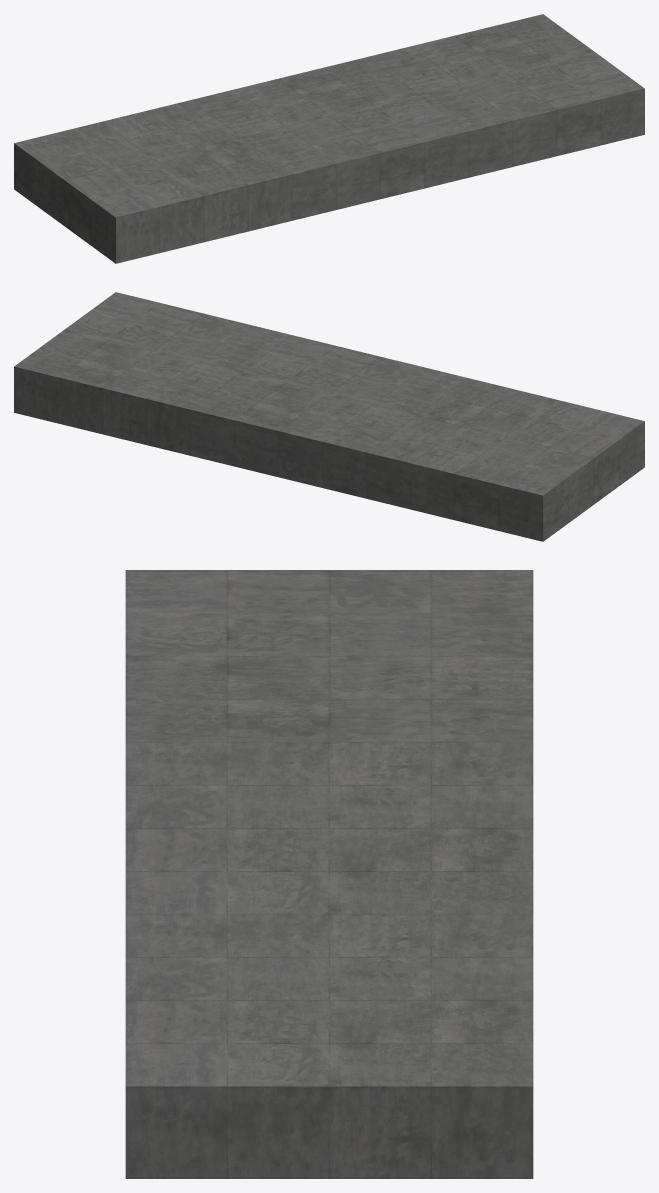
File: SM_Ground_3.fbx
3 renders of one model, top to bottom at view 1: azimuth 30°, elevation 25°; view 2: azimuth 150°, elevation 25°; view 3: azimuth 270°, elevation 25°, orthographic. The views are drawn at different scales.
Visible parts, largest first — view 1: SM_Ground_3_LOD0; view 2: SM_Ground_3_LOD0; view 3: SM_Ground_3_LOD0.
Part boxes in pixels (box(x1,y1,x2,y2)): SM_Ground_3_LOD0: box(14, 14, 644, 263); SM_Ground_3_LOD0: box(14, 292, 644, 541); SM_Ground_3_LOD0: box(125, 570, 533, 1178).
Size of the model in its own units: 2400 by 800 by 200.
1 material, 1 textured.
